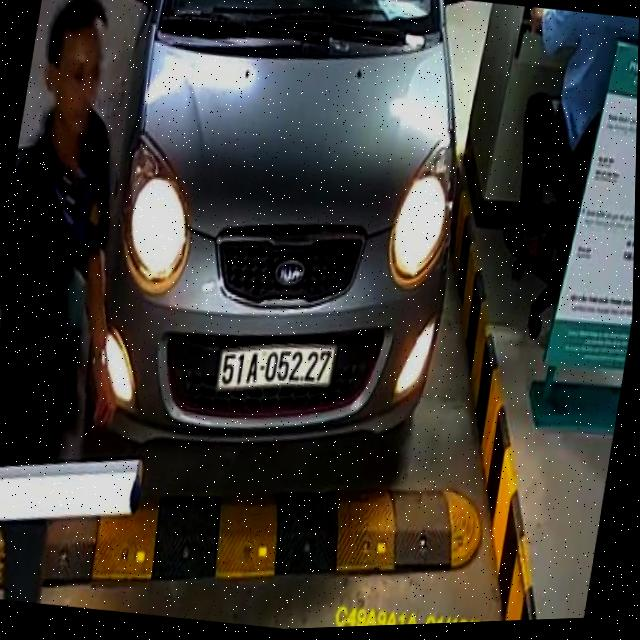car: (30, 0, 510, 495)
plate: (211, 333, 339, 403)
